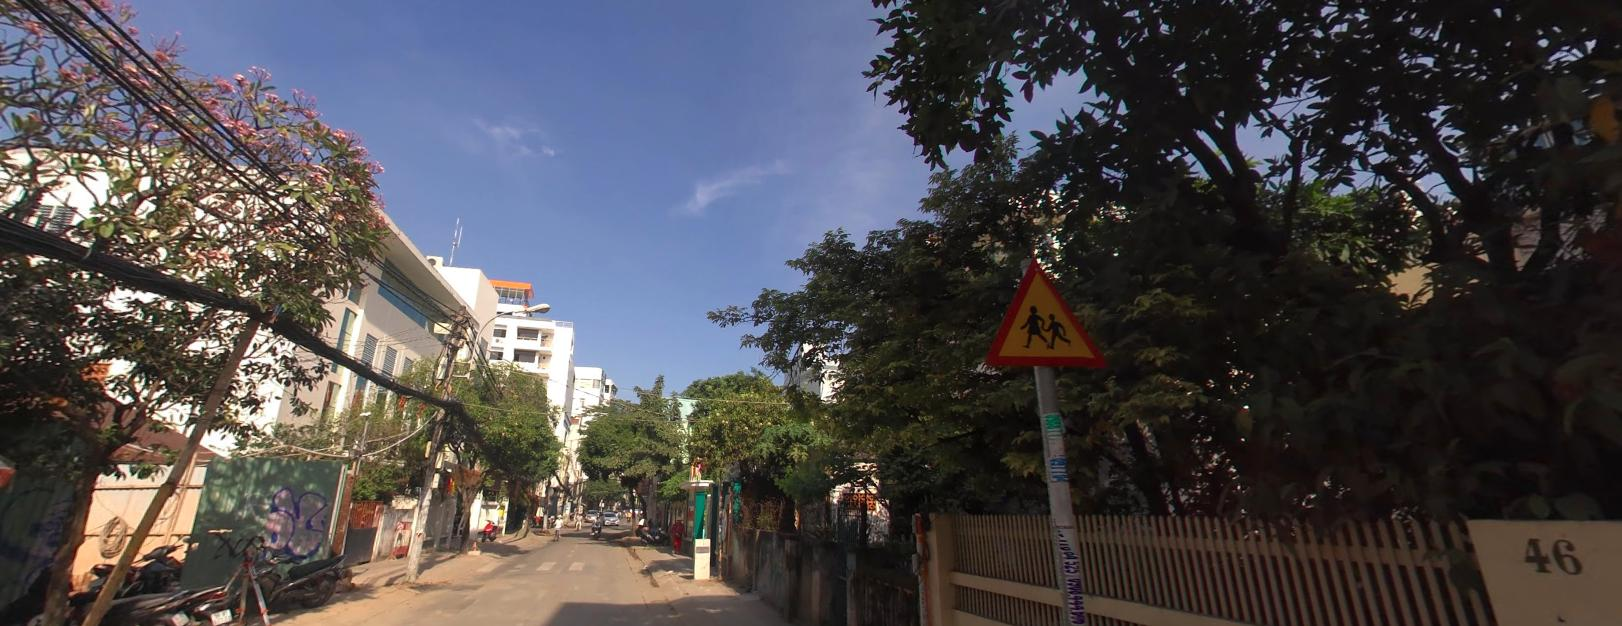Nguy hiem: (986, 254, 1110, 367)
